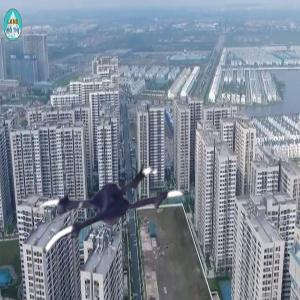drone: (37, 147, 186, 296)
